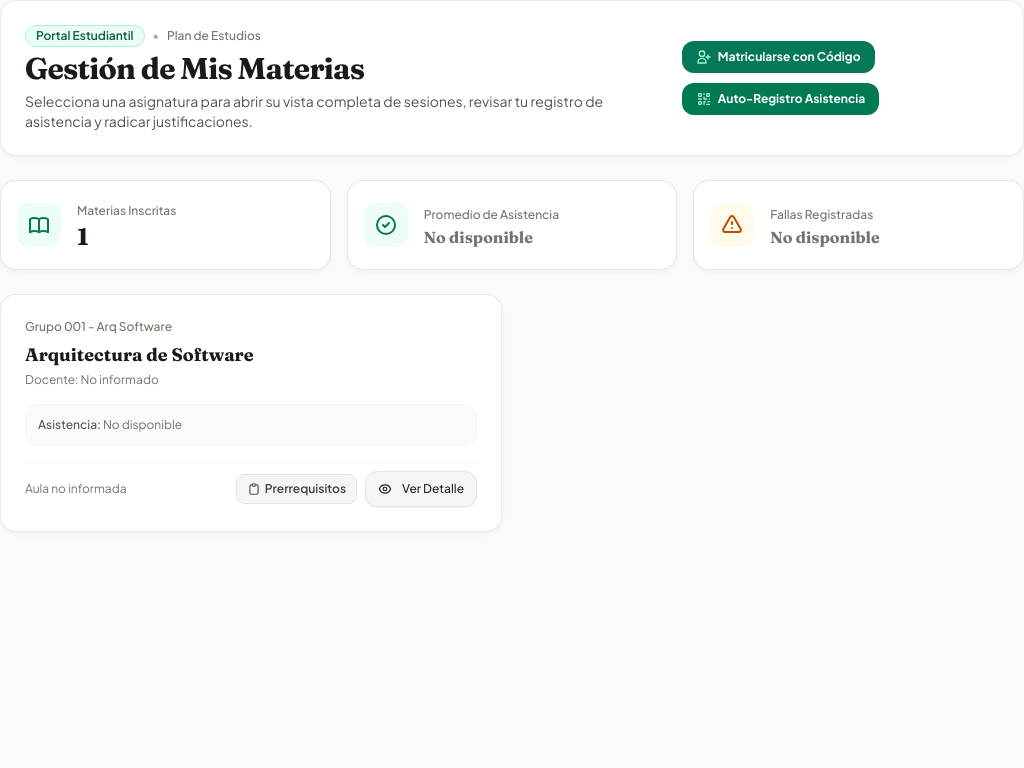
Scenario: StudentCoursesComponent — contrato real y estados de carga (HTTP) › una respuesta 200 con cero sesiones muestra estado vacio, sin error
The image size is (1024, 768).
Click the button "Ver Detalle": (421, 489) [365,471,477,507]
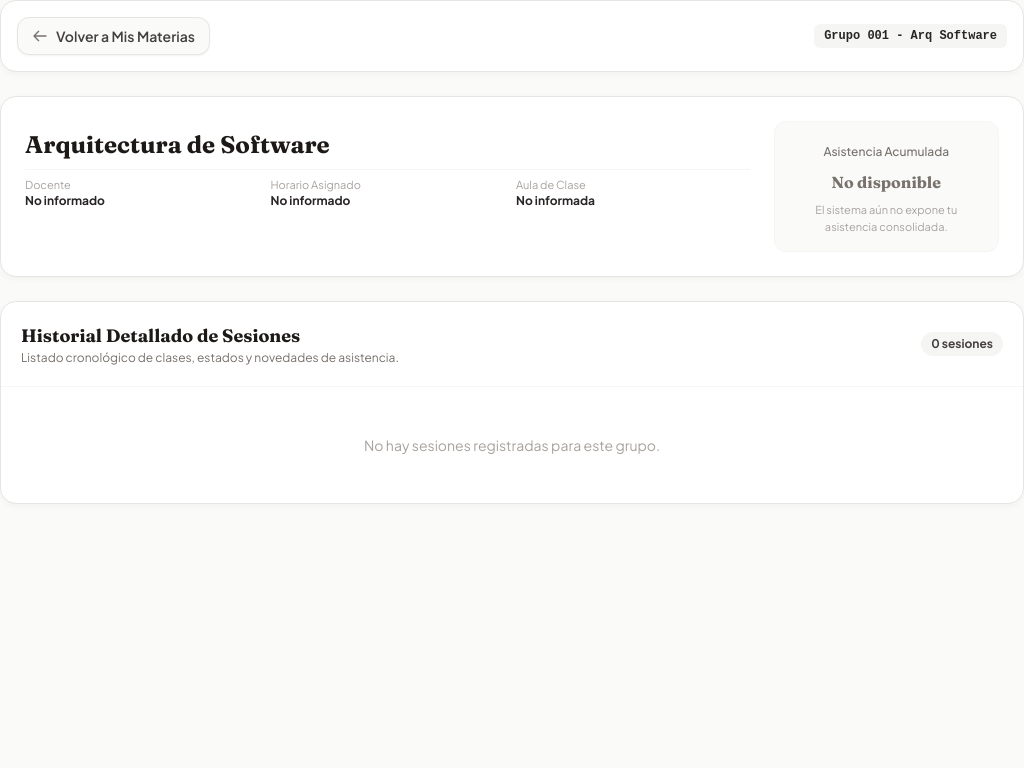
Result: the element with test id "sesiones-vacio" is shown at [364,436,660,454]
